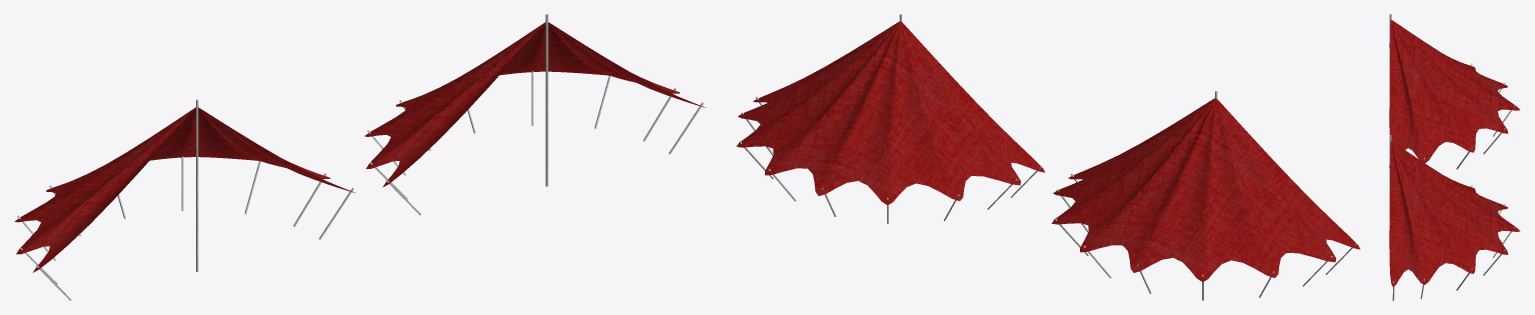
Rendered from Tent.fbx.
The picture shows the model from 3 angles, left to right: view 1: azimuth 30°, elevation 25°; view 2: azimuth 150°, elevation 25°; view 3: azimuth 270°, elevation 25°; orthographic projection. The views are drawn at different scales.
Visible parts, largest first — view 1: T2, T1; view 2: T1, T2; view 3: T2, T1.
Boxes of the visible parts, x1,y1,x2,y2 form: T2: (364, 14, 705, 215); T1: (14, 99, 355, 300); T1: (1051, 91, 1360, 300); T2: (736, 14, 1045, 223); T2: (1389, 135, 1520, 300); T1: (1389, 14, 1519, 169).
Bounding box in the file's own units: 11573 × 2815 × 2742.
2 materials, 2 textured.
